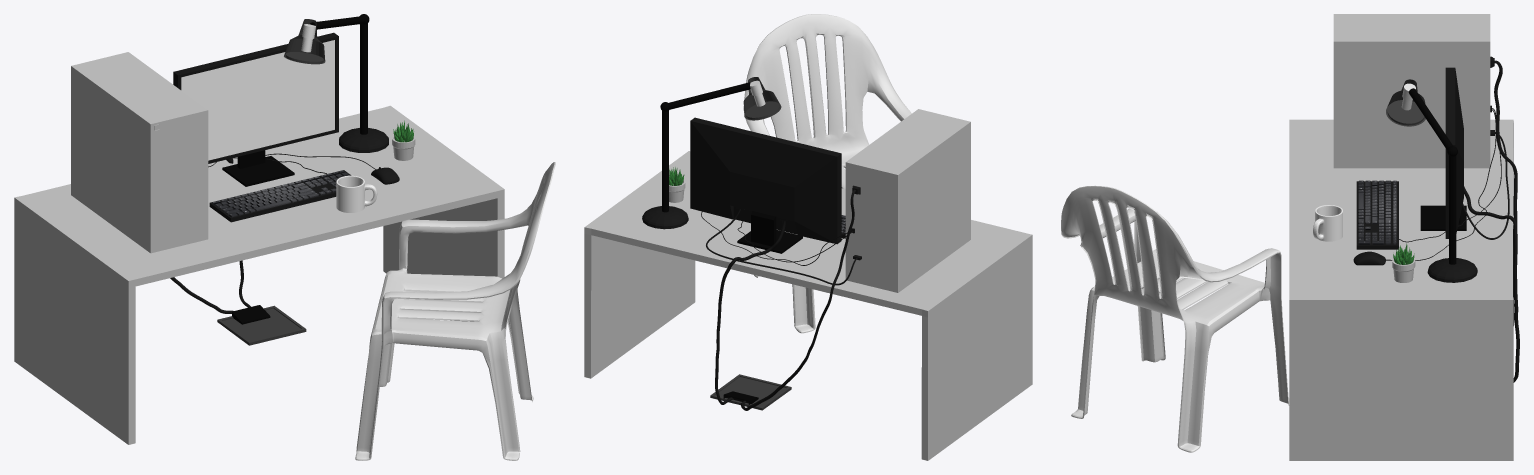
Rendered from last.gltf.
3 renders of one model, left to right at view 1: azimuth 30°, elevation 25°; view 2: azimuth 150°, elevation 25°; view 3: azimuth 270°, elevation 25°, orthographic. The views are drawn at different scales.
Parts seen in each view (by area): view 1: Cube.046, PC, Chair, Screen, Desklamp, Keys, Monitor1, Cube.039, Cube.003, Cup, Cube; view 2: Cube.046, PC, Chair, Monitor1, Desklamp, Cube.039, Catenary.004, Catenary.003, Cube.001, Cube, Catenary; view 3: Cube.046, Chair, PC, Desklamp, Keys, Monitor1, Cube.003, Cup, Catenary.003, Cube, Catenary.004, lightGlass.
Boxes of the visible parts, x1,y1,x2,y2 form: Cube.046: (14,105,504,444); PC: (71,52,208,253); Chair: (355,162,555,460); Screen: (181,40,334,160); Desklamp: (284,14,388,152); Keys: (212,170,350,217); Monitor1: (173,32,338,163); Cube.039: (217,305,306,345); Cube.003: (209,170,351,222); Cup: (336,175,377,212); Cube: (222,156,294,186); Cube.046: (584,151,1032,460); PC: (845,109,970,292); Chair: (743,14,911,333); Monitor1: (690,117,841,244); Desklamp: (642,77,781,229); Cube.039: (710,374,791,410); Catenary.004: (740,189,855,410); Catenary.003: (715,221,785,404); Cube.001: (751,211,776,246); Cube: (737,230,802,253); Catenary: (706,209,857,285); Cube.046: (1289,119,1513,460); Chair: (1061,185,1289,452); PC: (1333,14,1490,168); Desklamp: (1386,79,1477,282); Keys: (1358,180,1396,244); Monitor1: (1445,67,1463,238); Cube.003: (1356,181,1398,249); Cup: (1313,205,1342,241); Catenary.003: (1464,186,1519,382); Cube: (1420,205,1466,230); Catenary.004: (1494,60,1517,325); lightGlass: (1387,100,1424,123).
Size of the model in its own units: 9.3 by 7.64 by 10.
